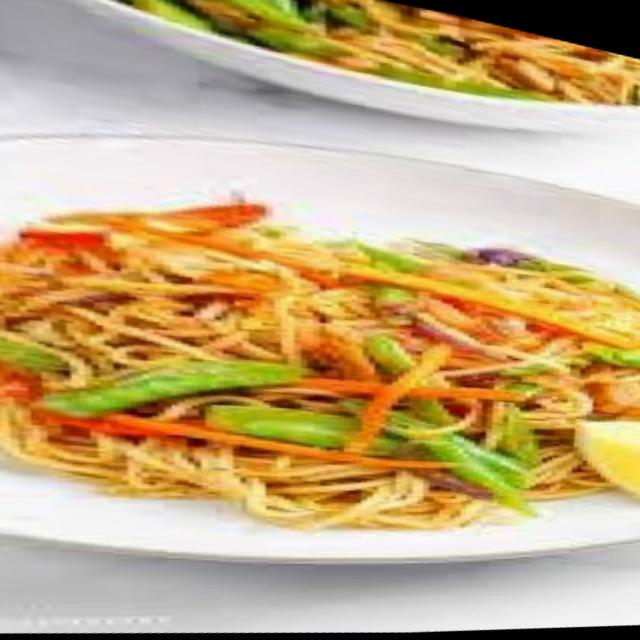pancit bihon: (0, 196, 639, 527)
